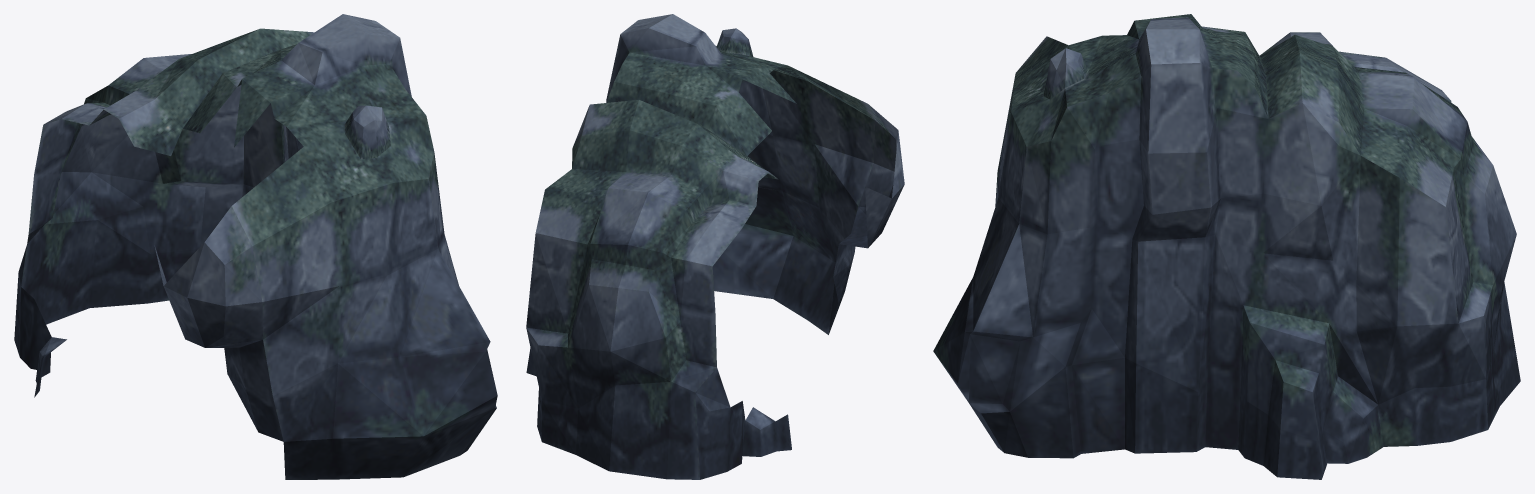
The model's file is cs_lobbynew02_wujian_zhiji_st01.FBX.
3 views of the same model, side by side, from view 1: azimuth 30°, elevation 25°; view 2: azimuth 150°, elevation 25°; view 3: azimuth 270°, elevation 25° (orthographic). The views are drawn at different scales.
Parts seen in each view (by area): view 1: cs_lobbynew02_wujian_zhiji_st01; view 2: cs_lobbynew02_wujian_zhiji_st01; view 3: cs_lobbynew02_wujian_zhiji_st01.
Boxes of the visible parts, x1=… form: cs_lobbynew02_wujian_zhiji_st01: x1=14, y1=14, x2=497, y2=479; cs_lobbynew02_wujian_zhiji_st01: x1=526, y1=14, x2=904, y2=479; cs_lobbynew02_wujian_zhiji_st01: x1=933, y1=14, x2=1520, y2=479.
Bounding box in the file's own units: 946 × 1061 × 1392.
